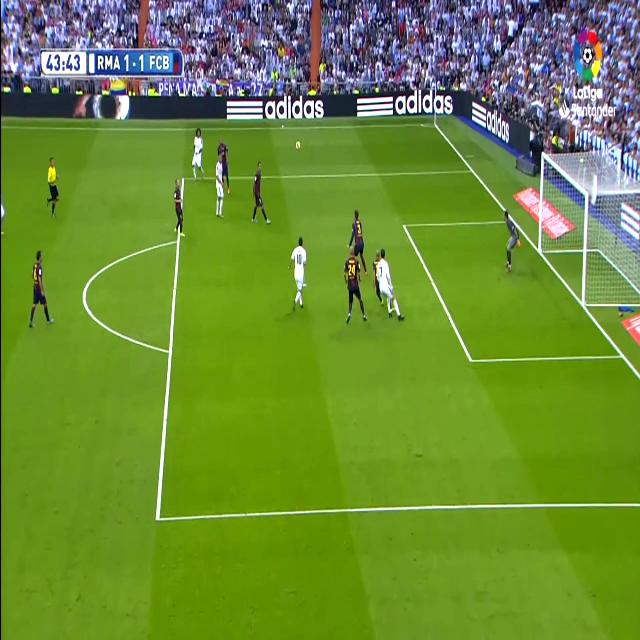bigarea_bottom_inner: (465, 344, 477, 373)
bigarea_top_inner: (401, 218, 407, 232)
bigarea_top_outter: (468, 162, 476, 176)
corner: (429, 117, 438, 130)
smallarea_bottom_outter: (616, 340, 628, 369)
